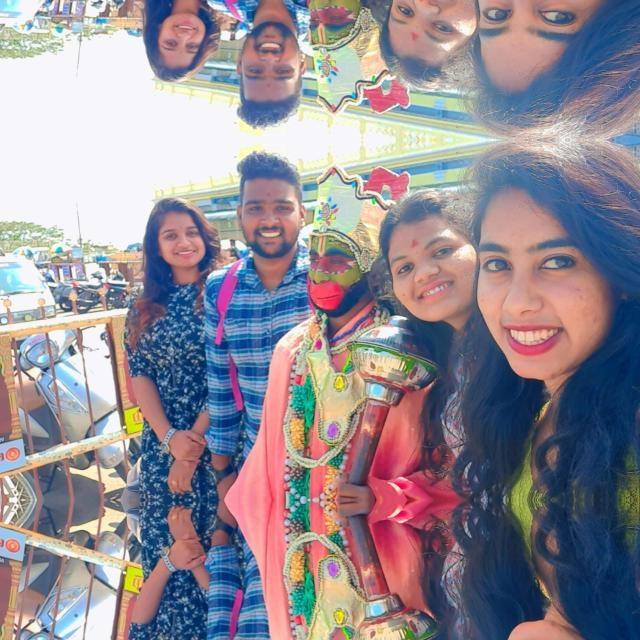person: (491, 142, 640, 499), (134, 190, 230, 450), (379, 192, 506, 384), (491, 500, 640, 640), (491, 0, 640, 137), (240, 152, 320, 386), (379, 0, 506, 88), (240, 0, 320, 128), (133, 550, 230, 640), (133, 0, 230, 89), (379, 615, 506, 640), (240, 614, 320, 640)
